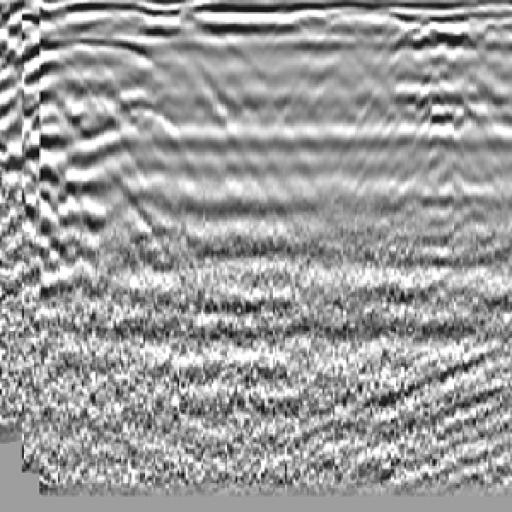non-metallic: (5, 24, 143, 270)
